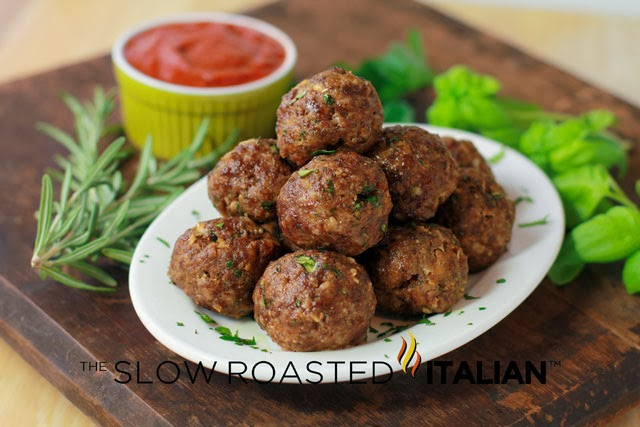meatballs: (166, 216, 271, 316), (258, 254, 372, 346), (283, 158, 381, 249), (277, 75, 383, 156), (378, 231, 462, 320), (210, 139, 285, 220), (381, 128, 449, 211), (452, 174, 511, 269)
